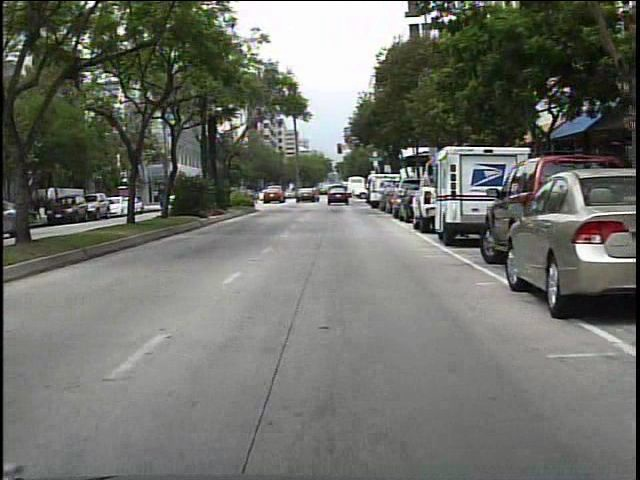person: (324, 183, 337, 203), (291, 182, 297, 201)
